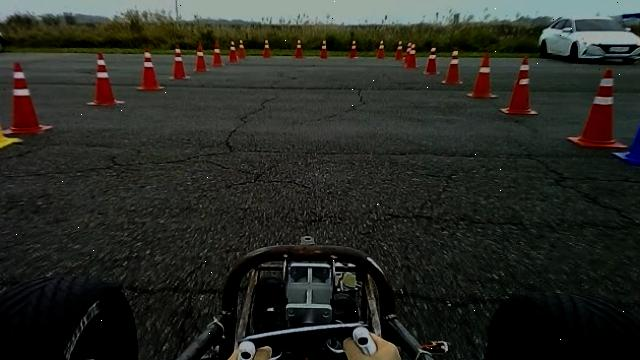red cone: (567, 67, 629, 149), (6, 61, 54, 134), (501, 55, 538, 115), (86, 52, 125, 106), (466, 50, 498, 98), (136, 49, 166, 90), (441, 49, 464, 84), (171, 43, 190, 80), (194, 39, 209, 72), (423, 46, 440, 75), (404, 41, 418, 68), (212, 39, 225, 66), (228, 40, 238, 62), (294, 39, 304, 57), (238, 39, 247, 59), (395, 40, 404, 60), (320, 39, 329, 58), (349, 39, 358, 58), (377, 39, 386, 58), (263, 38, 271, 57)
